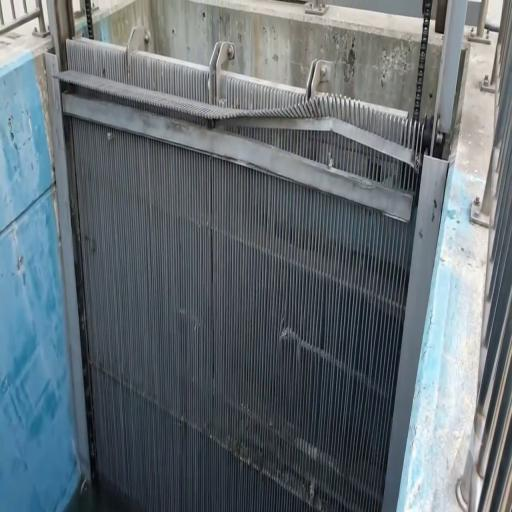rake: (52, 40, 453, 511)
rake_broken: (362, 123, 430, 175), (260, 91, 318, 131), (356, 95, 409, 137), (310, 91, 369, 122), (334, 116, 378, 157), (212, 102, 266, 135), (266, 119, 318, 152), (296, 116, 351, 147), (394, 112, 429, 150)
